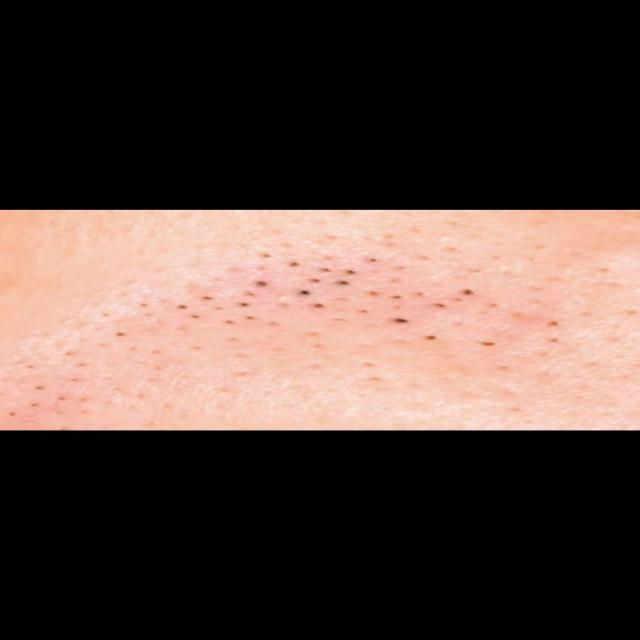blackhead: (54, 253, 583, 377)
